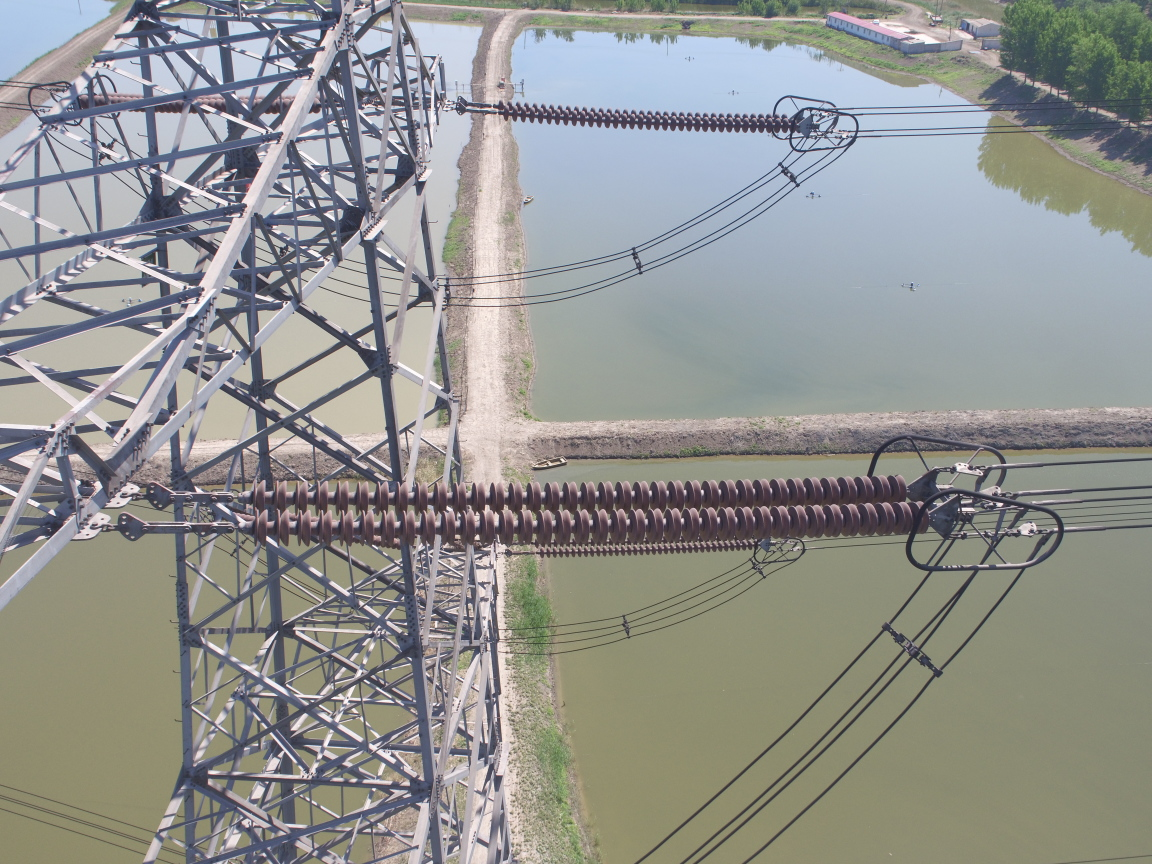insulator: (189, 470, 946, 546), (474, 97, 803, 136)
